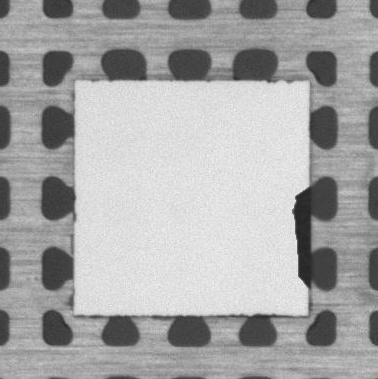DIE_BROKEN: (289, 185, 313, 291)
